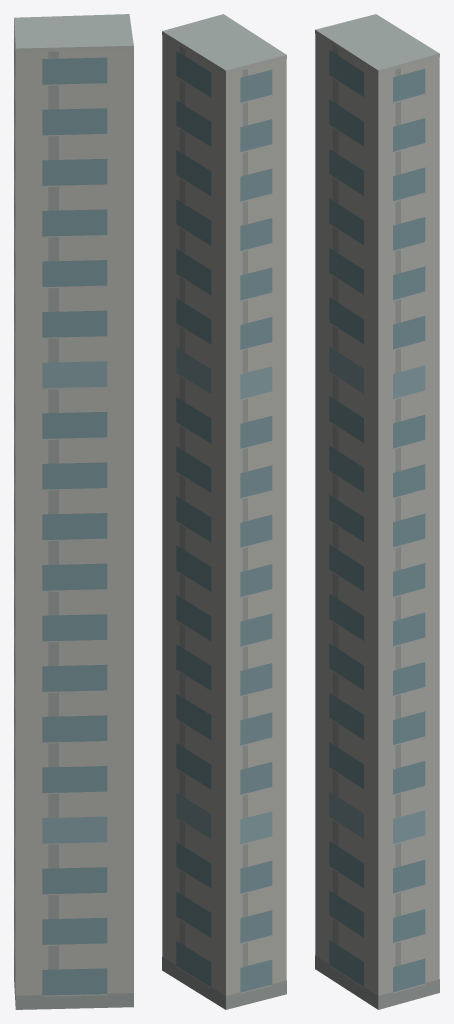
The model's file is survey-upis-32802864.glb.
3 views of the same model, side by side, from view 1: azimuth 30°, elevation 25°; view 2: azimuth 150°, elevation 25°; view 3: azimuth 330°, elevation 25° (orthographic). The views are drawn at different scales.
Parts seen in each view (by area): view 1: survey-upis-32802864.tmp; view 2: survey-upis-32802864.tmp; view 3: survey-upis-32802864.tmp.
Part boxes in pixels (box(x1,y1,x2,y2)): survey-upis-32802864.tmp: box(14, 14, 133, 1009); survey-upis-32802864.tmp: box(162, 14, 286, 1009); survey-upis-32802864.tmp: box(315, 14, 439, 1009).
Bounding box in the file's own units: 7.62 × 57.95 × 6.43.
